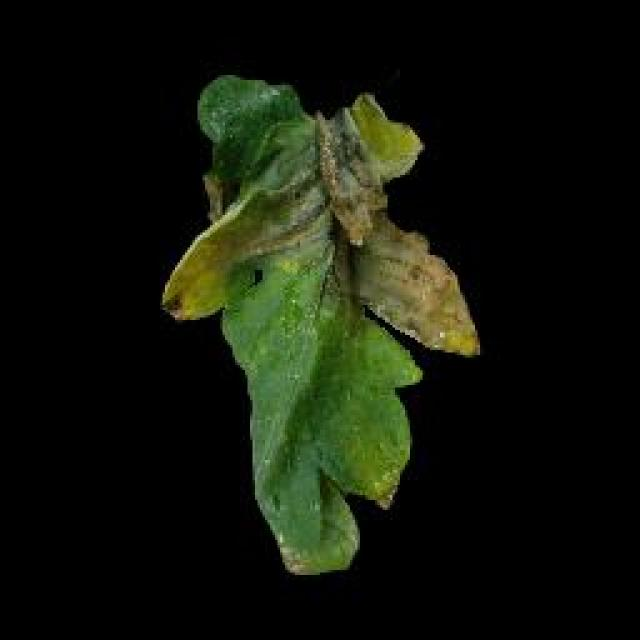Tomato_Late_Blight: (158, 88, 472, 363)
